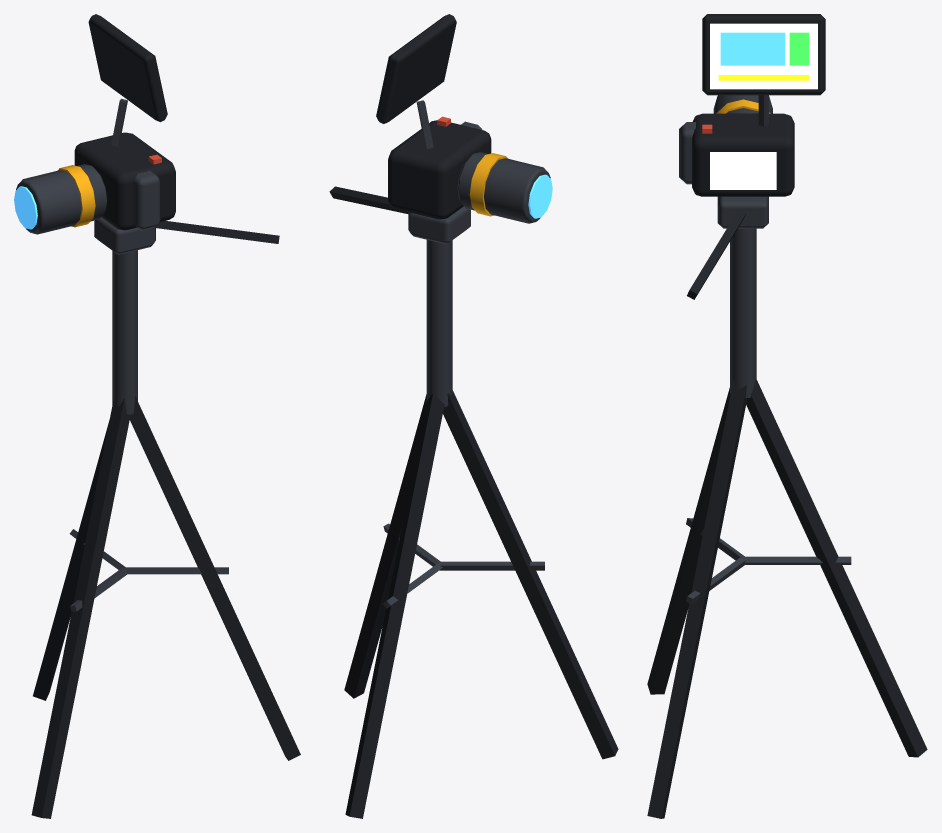
The model's file is station_buffer_ausstattung_1_3.glb.
3 renders of one model, left to right at view 1: azimuth 30°, elevation 25°; view 2: azimuth 150°, elevation 25°; view 3: azimuth 270°, elevation 25°, orthographic. The views are drawn at different scales.
Visible parts, largest first — view 1: station_buffer_ausstattung_1_3; view 2: station_buffer_ausstattung_1_3; view 3: station_buffer_ausstattung_1_3.
Part boxes in pixels (x1,y1,x2,y2): station_buffer_ausstattung_1_3: [14, 14, 300, 818]; station_buffer_ausstattung_1_3: [329, 14, 618, 818]; station_buffer_ausstattung_1_3: [647, 14, 927, 818].
Bounding box in the file's own units: 0.6222 × 1.6 × 0.5451.
